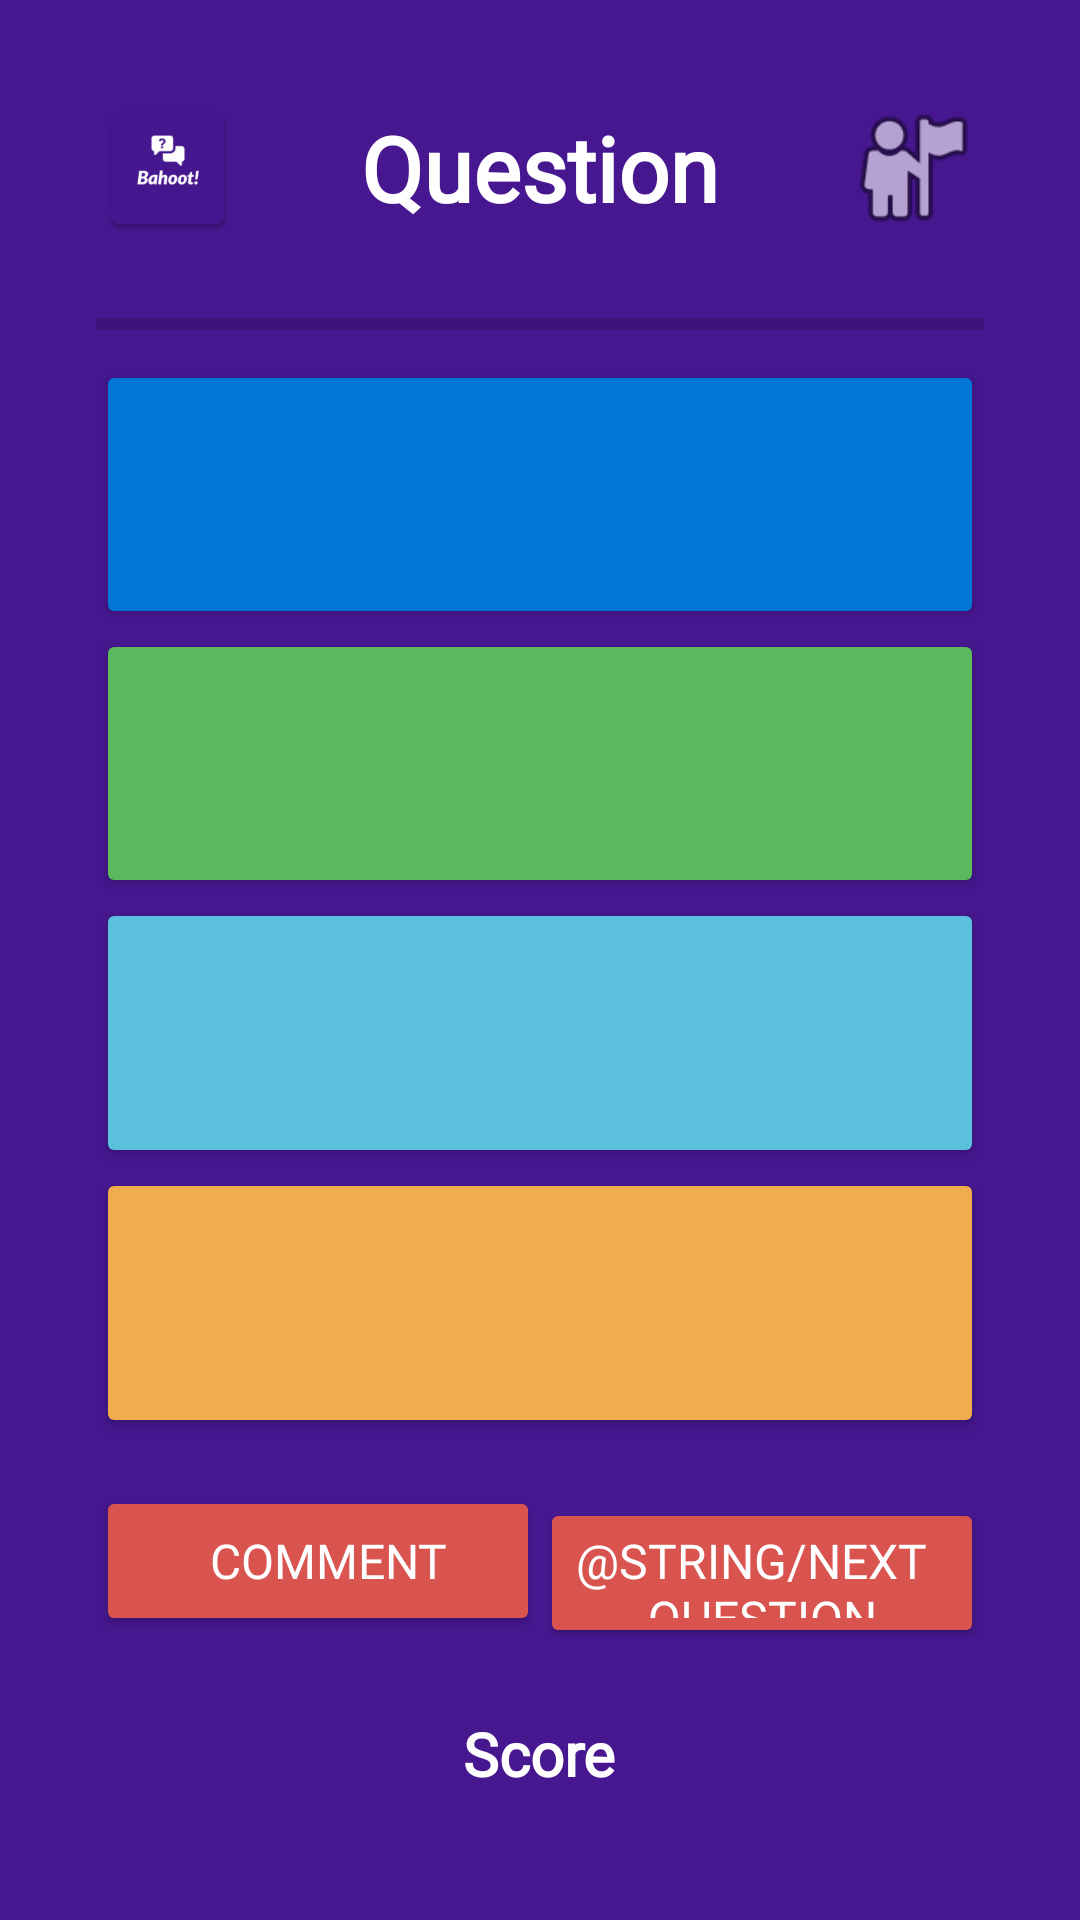

Locate icon controls on the screen. Image size 1080×1920, boxes as (x1, y1, x2, y2).
myplaces: (860, 115, 967, 221)
